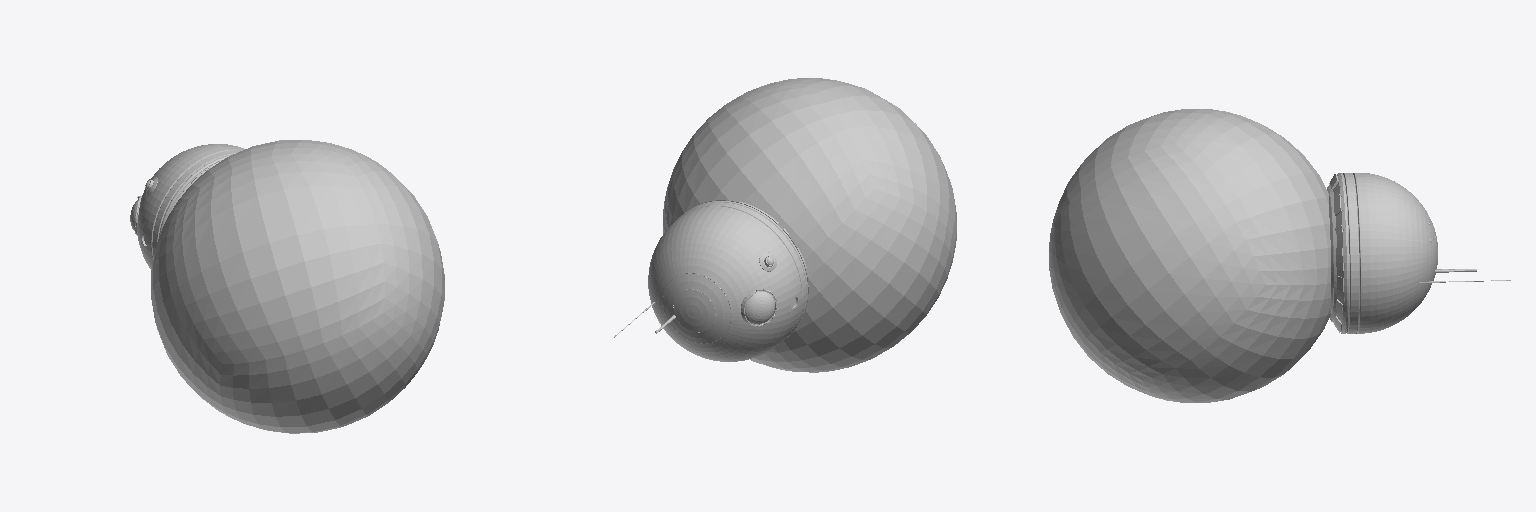
File: bb8_unit.obj
3 renders of one model, left to right at view 1: azimuth 30°, elevation 25°; view 2: azimuth 150°, elevation 25°; view 3: azimuth 270°, elevation 25°, orthographic.
Parts seen in each view (by area): view 1: Object004_Untitled; view 2: Object004_Untitled; view 3: Object004_Untitled.
Boxes of the visible parts, x1=… form: Object004_Untitled: x1=130, y1=140, x2=444, y2=433; Object004_Untitled: x1=614, y1=78, x2=956, y2=372; Object004_Untitled: x1=1049, y1=109, x2=1510, y2=402.
Size of the model in its own units: 0.9937 by 0.9938 by 1.56.